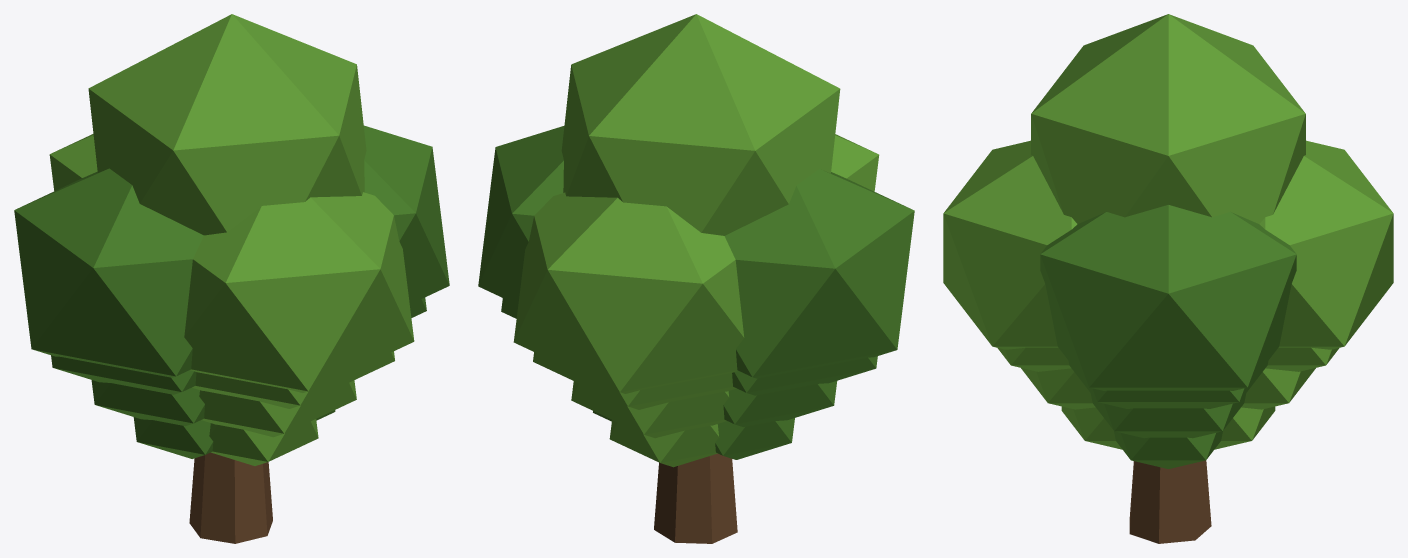
File: Crop_Crop_TeaLeaf.fbx
3 renders of one model, left to right at view 1: azimuth 30°, elevation 25°; view 2: azimuth 150°, elevation 25°; view 3: azimuth 270°, elevation 25°, orthographic.
Parts seen in each view (by area): view 1: Crop_Crop_TeaLeaf__S4, Crop_Crop_TeaLeaf__S2, Crop_Crop_TeaLeaf__S3, Crop_Crop_TeaLeaf__S1; view 2: Crop_Crop_TeaLeaf__S4, Crop_Crop_TeaLeaf__S2, Crop_Crop_TeaLeaf__S3, Crop_Crop_TeaLeaf__S1; view 3: Crop_Crop_TeaLeaf__S4, Crop_Crop_TeaLeaf__S2, Crop_Crop_TeaLeaf__S3, Crop_Crop_TeaLeaf__S1.
Boxes of the visible parts, box(x1,y1,x2,y2) form: Crop_Crop_TeaLeaf__S4: box(14, 14, 449, 543); Crop_Crop_TeaLeaf__S2: box(91, 380, 356, 437); Crop_Crop_TeaLeaf__S3: box(51, 297, 426, 408); Crop_Crop_TeaLeaf__S1: box(133, 410, 335, 465); Crop_Crop_TeaLeaf__S4: box(478, 14, 914, 543); Crop_Crop_TeaLeaf__S2: box(571, 381, 837, 438); Crop_Crop_TeaLeaf__S3: box(501, 298, 877, 409); Crop_Crop_TeaLeaf__S1: box(593, 411, 794, 467); Crop_Crop_TeaLeaf__S4: box(943, 14, 1393, 543); Crop_Crop_TeaLeaf__S2: box(1021, 368, 1315, 438); Crop_Crop_TeaLeaf__S3: box(997, 347, 1339, 408); Crop_Crop_TeaLeaf__S1: box(1061, 406, 1275, 468).
Bounding box in the file's own units: 0.3444 × 0.42 × 0.3345.
